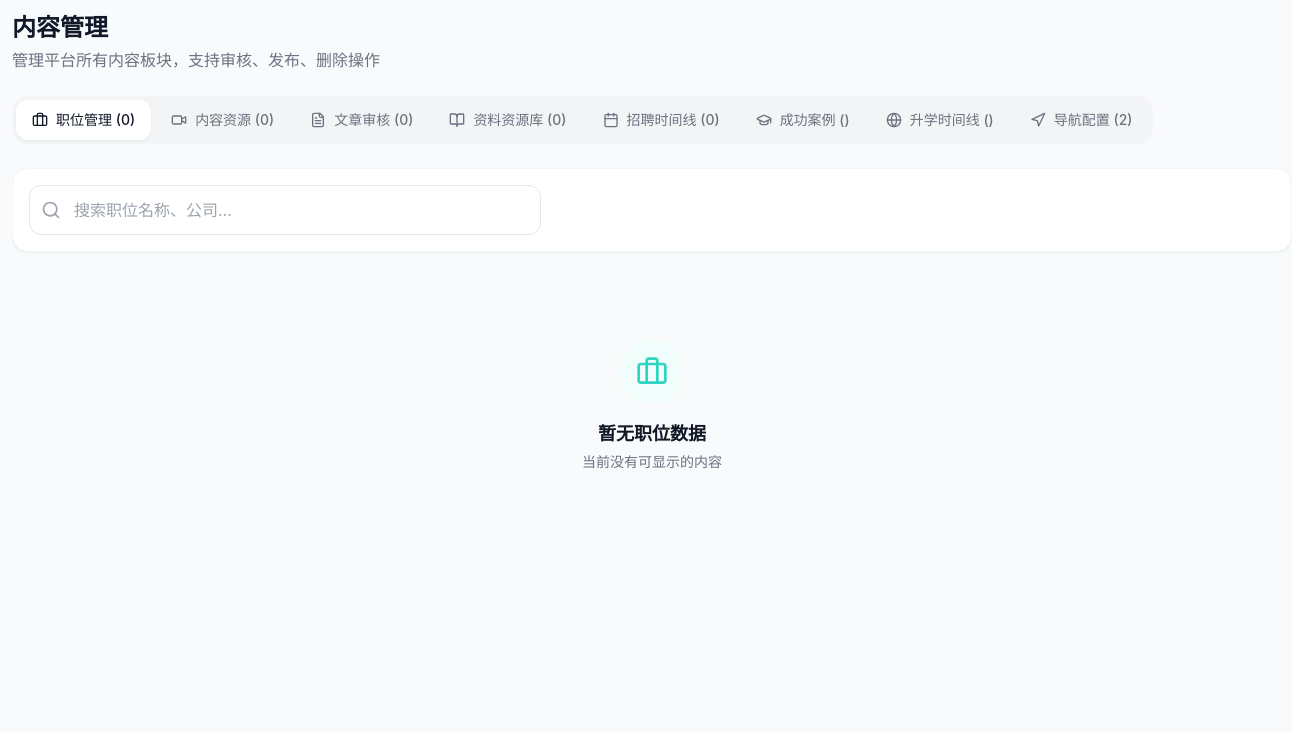
Scenario: AdminContent - nav config tab › fill and add nav item
Click the button "导航配置 (2)": (1081, 120) [1014,100,1148,140]
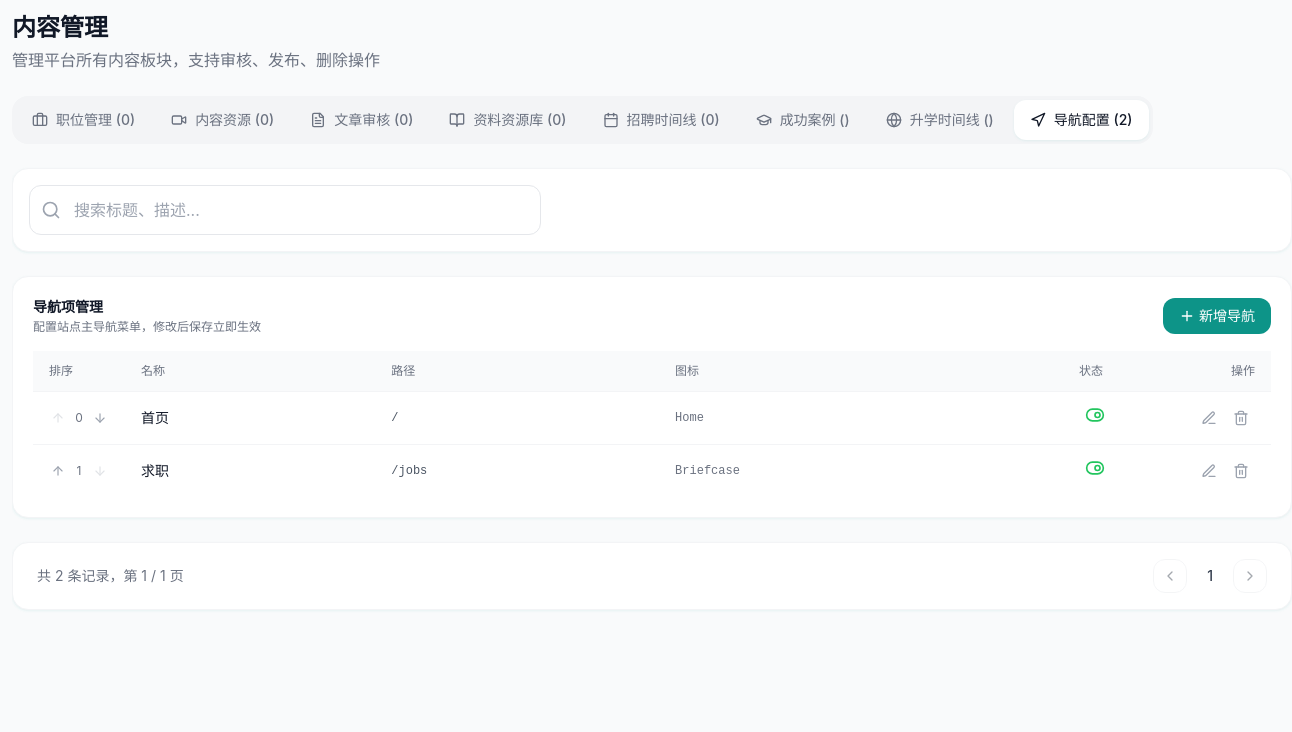
Expected: the button "新增导航" is shown
Click the button "新增导航": (1217, 316) [1163,298,1271,334]
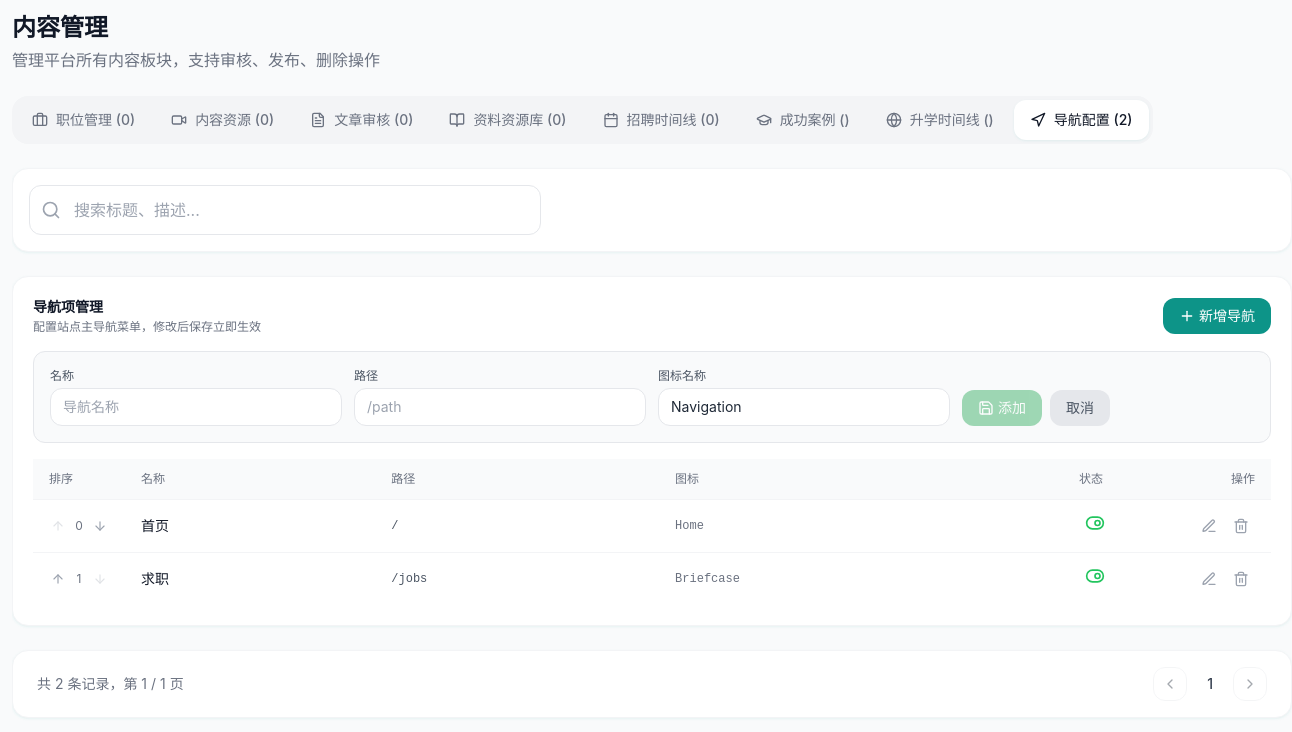
Expected: the field with placeholder "导航名称" is shown
In the field with placeholder "导航名称": (196, 407) [50,388,342,426], type "留学"
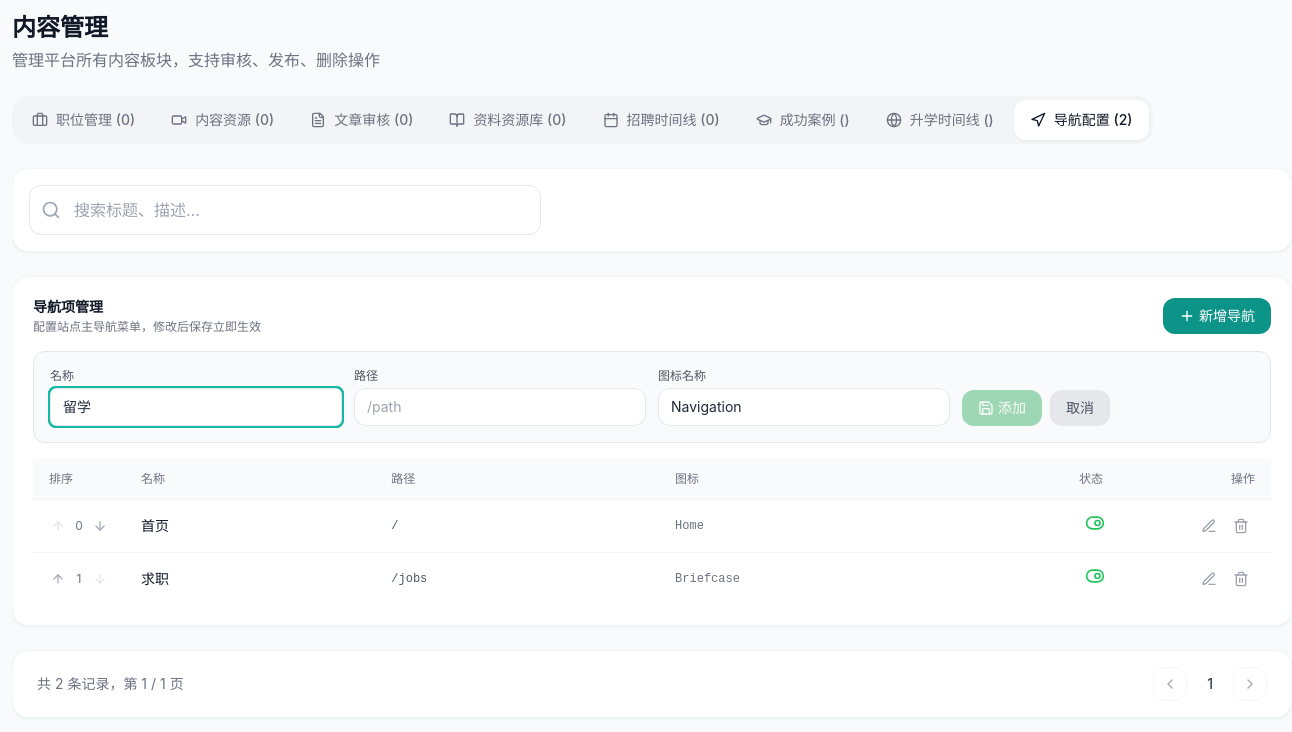
In the field with placeholder "/path": (500, 407) [354,388,646,426], type "/study-abroad"
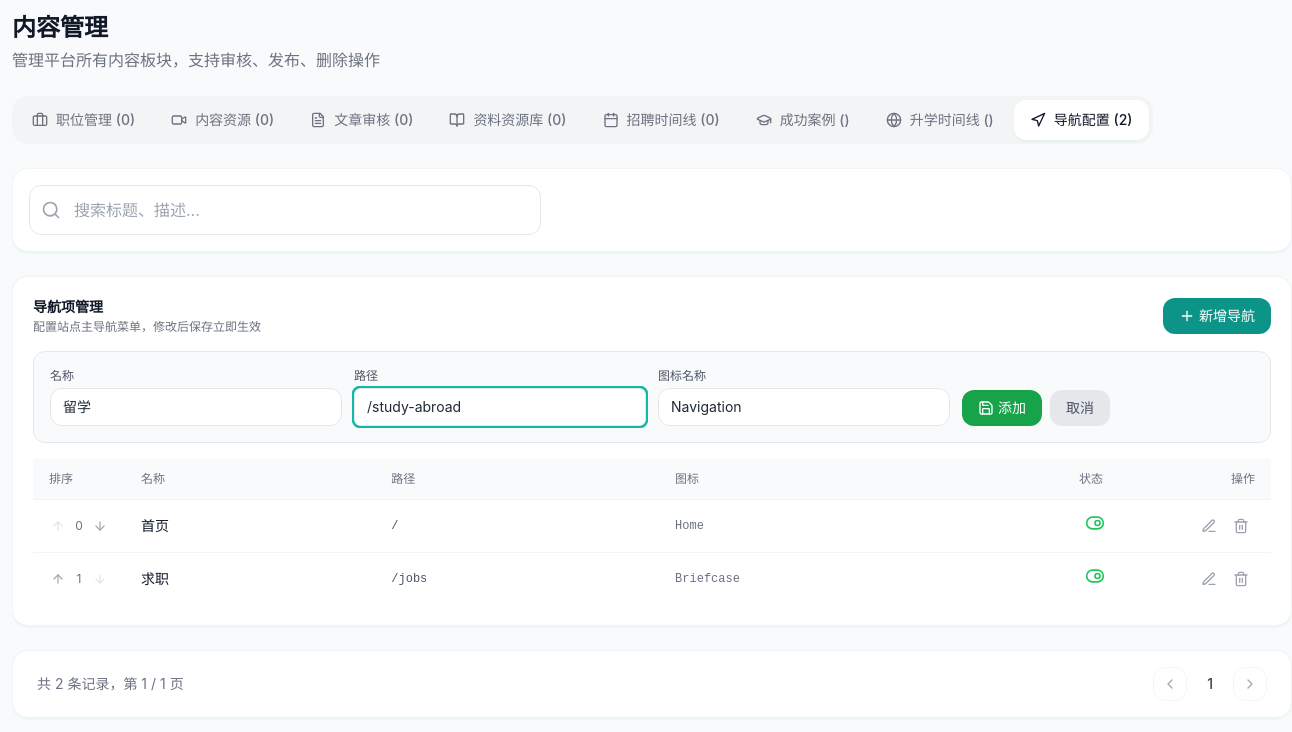
Click the button "添加": (1002, 408) [962,390,1042,426]
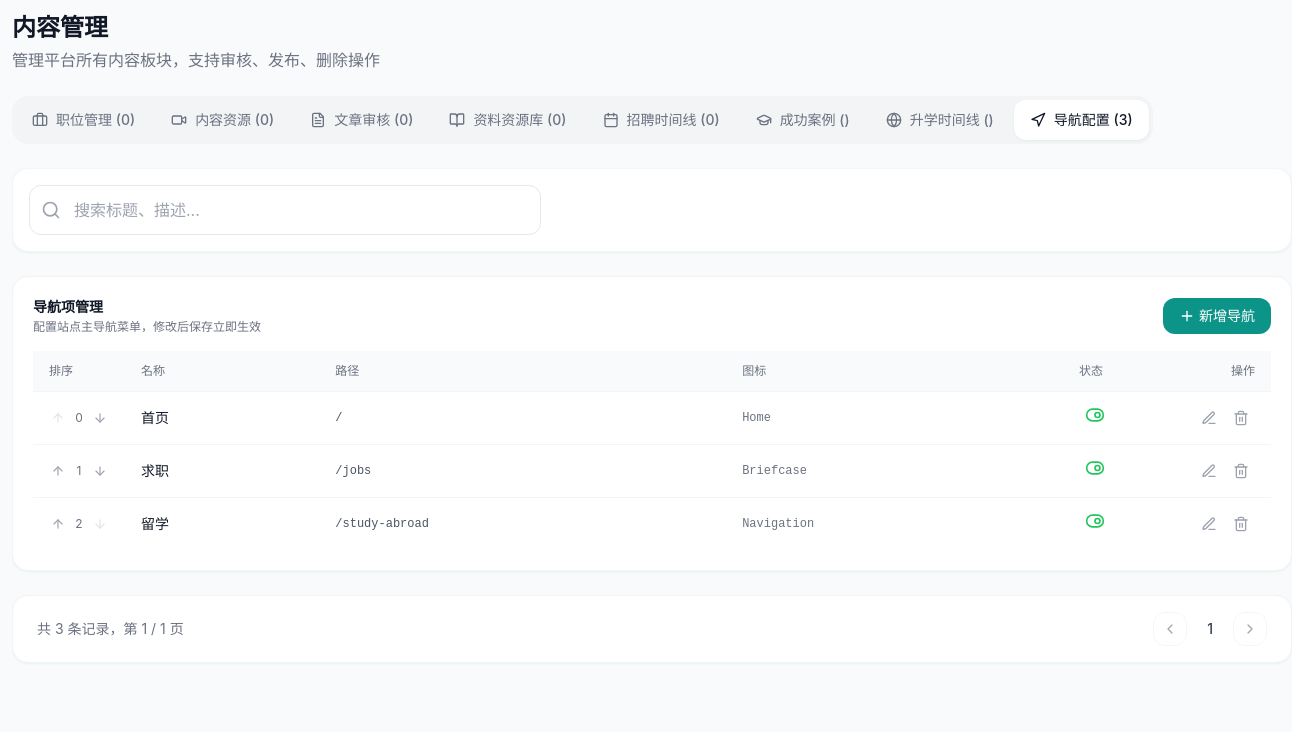
Expected: the text "留学" is shown, [141,515,169,532]
